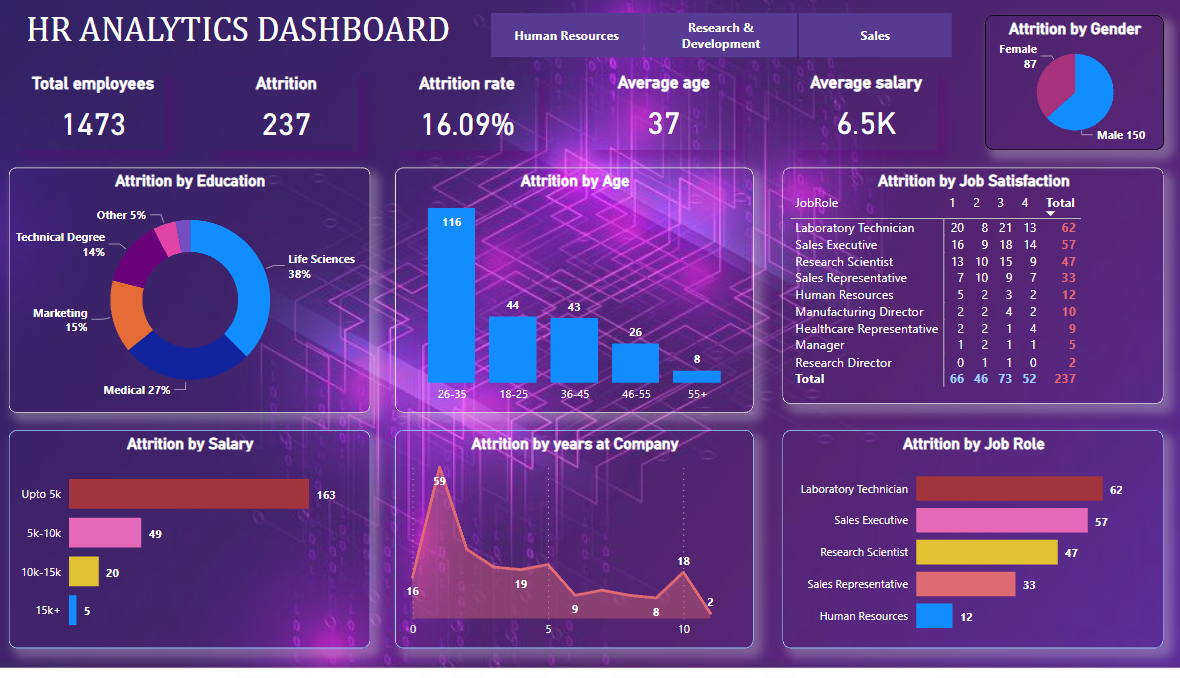

The page's visual inventory and layout, read from the dashboard file:
{"tool":"powerbi","page":{"name":"Page 1","canvas":[1270,800],"ordinal":0},"visuals":[{"type":"card","title":"Total employees","fields":{"Values":["CountNonNull(HR_Analytics.EmpID)"]},"box":[22.8,127.4,154.3,81.8],"z":0},{"type":"card","title":"Attrition","fields":{"Values":["CountNonNull(HR_Analytics.attrition_count)"]},"box":[229.4,127.4,155.6,83.2],"z":1000},{"type":"card","title":"Attrition rate","fields":{"Values":["HR_Analytics.attritionrate"]},"box":[423.9,127.4,154.3,83.2],"z":2000},{"type":"card","title":"Average age","fields":{"Values":["Avg(HR_Analytics.Age)"]},"box":[634.5,126.1,155.6,83.2],"z":3000},{"type":"card","title":"Average salary","fields":{"Values":["Avg(HR_Analytics.MonthlyIncome)"]},"box":[851.8,126.1,155.6,83.2],"z":5000},{"type":"donutChart","title":"Attrition by Education","fields":{"Category":["HR_Analytics.EducationField"],"Y":["Sum(HR_Analytics.attrition_count)"]},"box":[9.4,228,387.7,262.9],"z":6000},{"type":"barChart","title":"Attrition by Salary","fields":{"Y":["Sum(HR_Analytics.attrition_count)"],"Category":["HR_Analytics.SalarySlab"]},"box":[9.4,509.7,387.7,234.7],"z":7000},{"type":"pivotTable","title":"Attrition by Job Satisfaction","fields":{"Rows":["HR_Analytics.JobRole"],"Values":["Sum(HR_Analytics.attrition_count)"],"Columns":["HR_Analytics.JobSatisfaction"]},"box":[839.7,228,409.1,253.5],"z":8000},{"type":"columnChart","title":"Attrition by Age","fields":{"Category":["HR_Analytics.AgeGroup"],"Y":["Sum(HR_Analytics.attrition_count)"]},"box":[423.9,228,385,262.9],"z":9000},{"type":"barChart","title":"Attrition by Job Role","fields":{"Category":["HR_Analytics.JobRole"],"Y":["Sum(HR_Analytics.attrition_count)"]},"box":[839.7,509.7,409.1,234.7],"z":10000},{"type":"areaChart","title":"Attrition by years at Company","fields":{"Y":["Sum(HR_Analytics.attrition_count)"],"Category":["HR_Analytics.YearsAtCompany"]},"box":[423.9,509.7,385,234.7],"z":10001},{"type":"pieChart","title":"Attrition by Gender","fields":{"Category":["HR_Analytics.Gender"],"Y":["Sum(HR_Analytics.attrition_count)"]},"box":[1057,64.4,191.8,144.9],"z":10002},{"type":"slicer","fields":{"Values":["HR_Analytics.Department"]},"box":[500.3,55,544.6,61.7],"z":10003},{"type":"textbox","box":[22.8,55,490.9,61.7],"z":10004}]}

Visuals, with their boxes in screenshot pixels (x1, y1, x2, y2):
"Total employees" card: Rect(57, 90, 196, 164)
"Attrition" card: Rect(243, 90, 383, 165)
"Attrition rate" card: Rect(418, 90, 557, 165)
"Average age" card: Rect(608, 89, 748, 164)
"Average salary" card: Rect(803, 89, 943, 164)
"Attrition by Education" donutChart: Rect(45, 181, 394, 417)
"Attrition by Salary" barChart: Rect(45, 434, 394, 645)
"Attrition by Job Satisfaction" pivotTable: Rect(792, 181, 1161, 409)
"Attrition by Age" columnChart: Rect(418, 181, 765, 417)
"Attrition by Job Role" barChart: Rect(792, 434, 1161, 645)
"Attrition by years at Company" areaChart: Rect(418, 434, 765, 645)
"Attrition by Gender" pieChart: Rect(988, 33, 1161, 164)
slicer - HR_Analytics.Department: Rect(487, 25, 977, 80)
textbox: Rect(57, 25, 499, 80)
